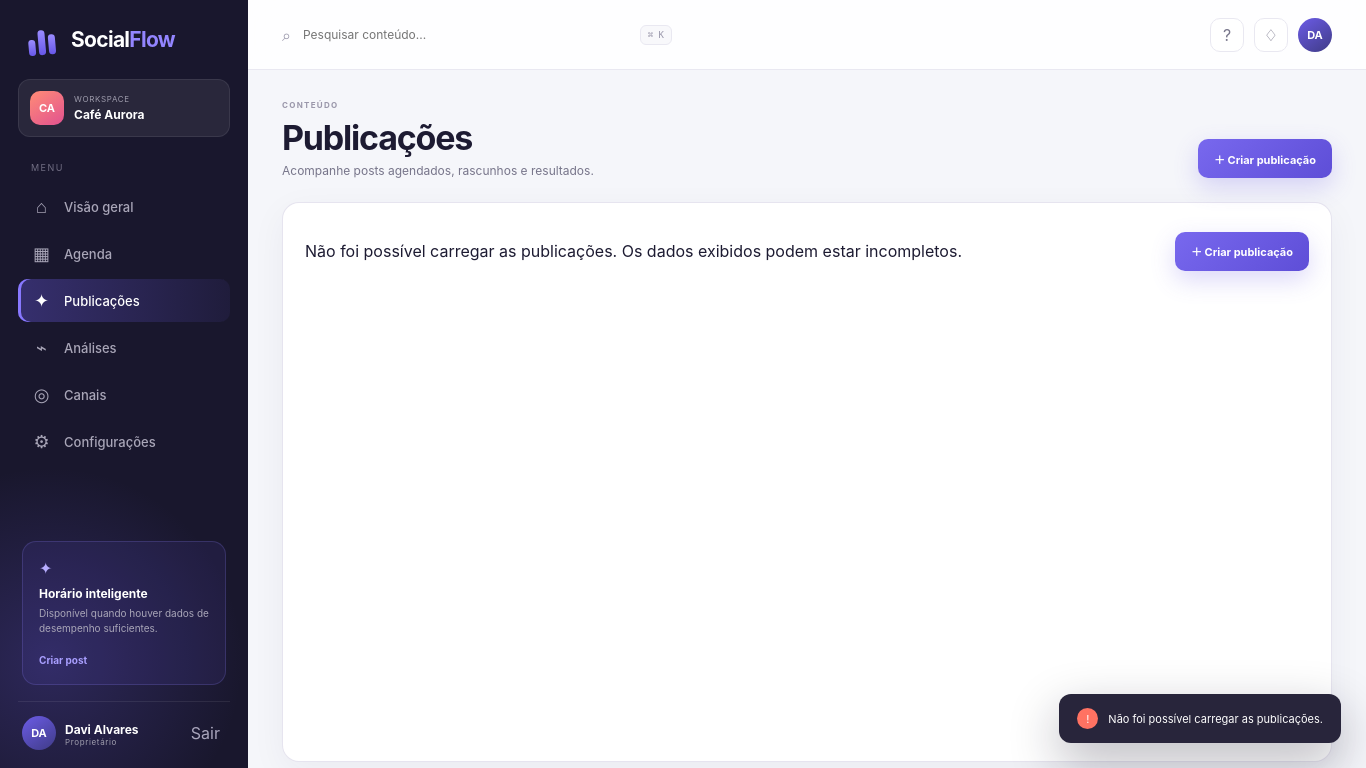
Test: SocialFlow › exibe um post criado após falha sem ocultar o aviso de dados incompletos
This screenshot has width=1366, height=768.
Click the 1st button "＋ Criar publicação": (1265, 158) [1198,139,1332,178]
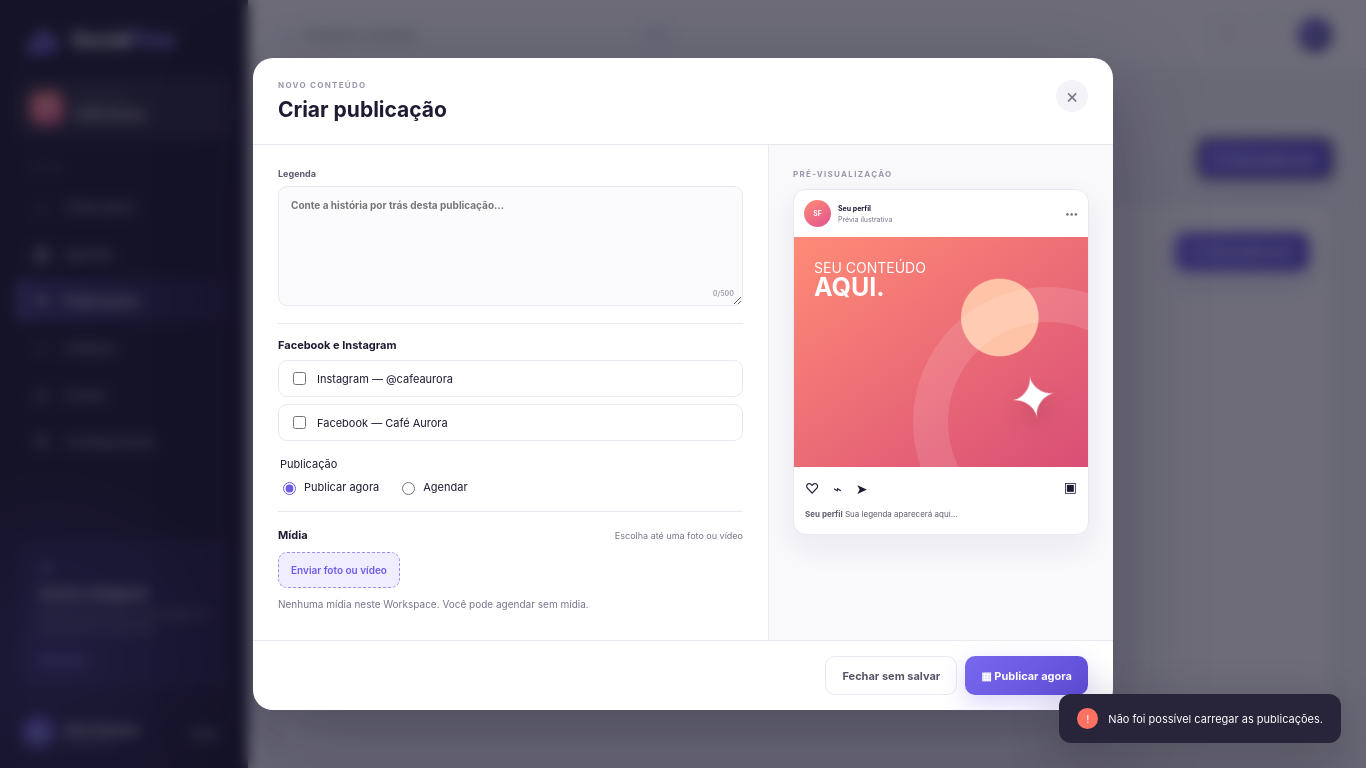
In the text box labelled "Legenda 0/500": (510, 246) [278,186,743,306], type "Post confirmado mesmo com a lista incompleta."
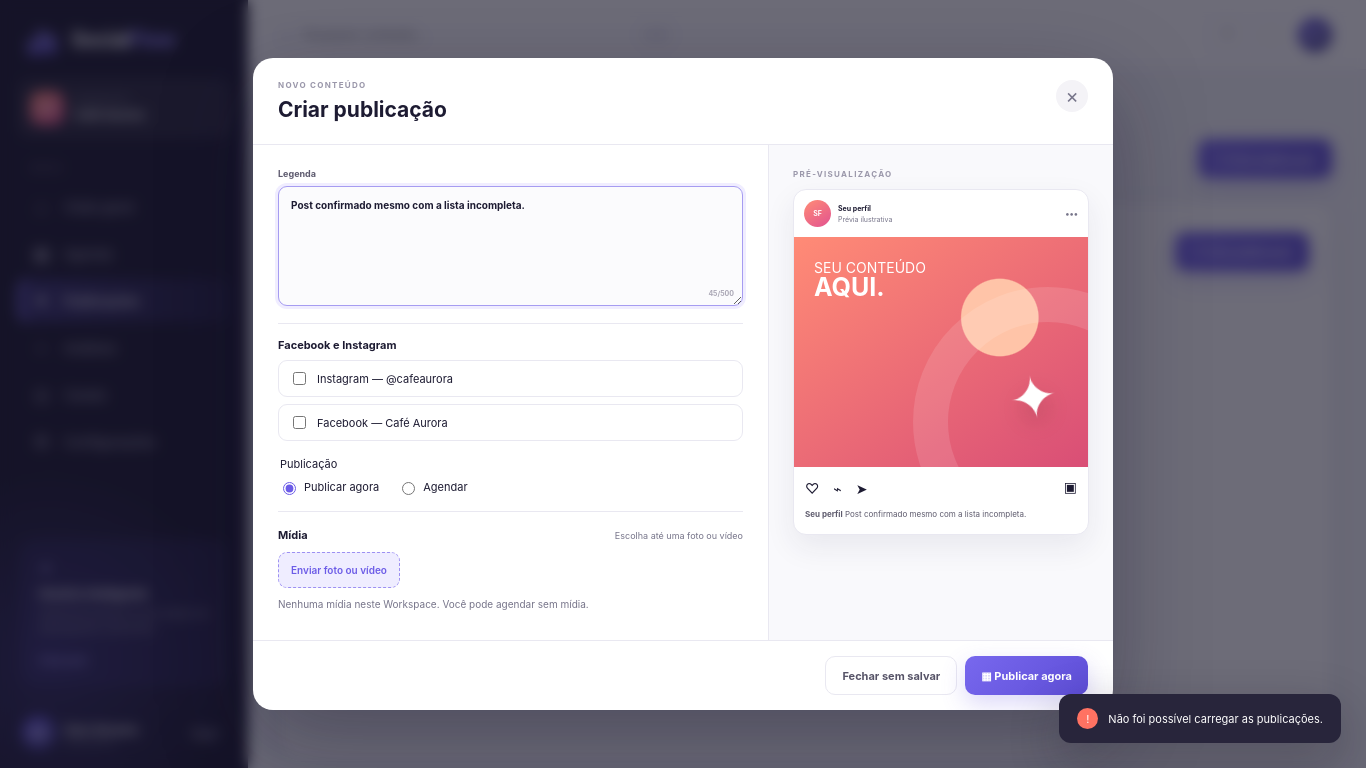
Click the checkbox labelled "Facebook — Café Aurora": (300, 422) [293,416,306,429]
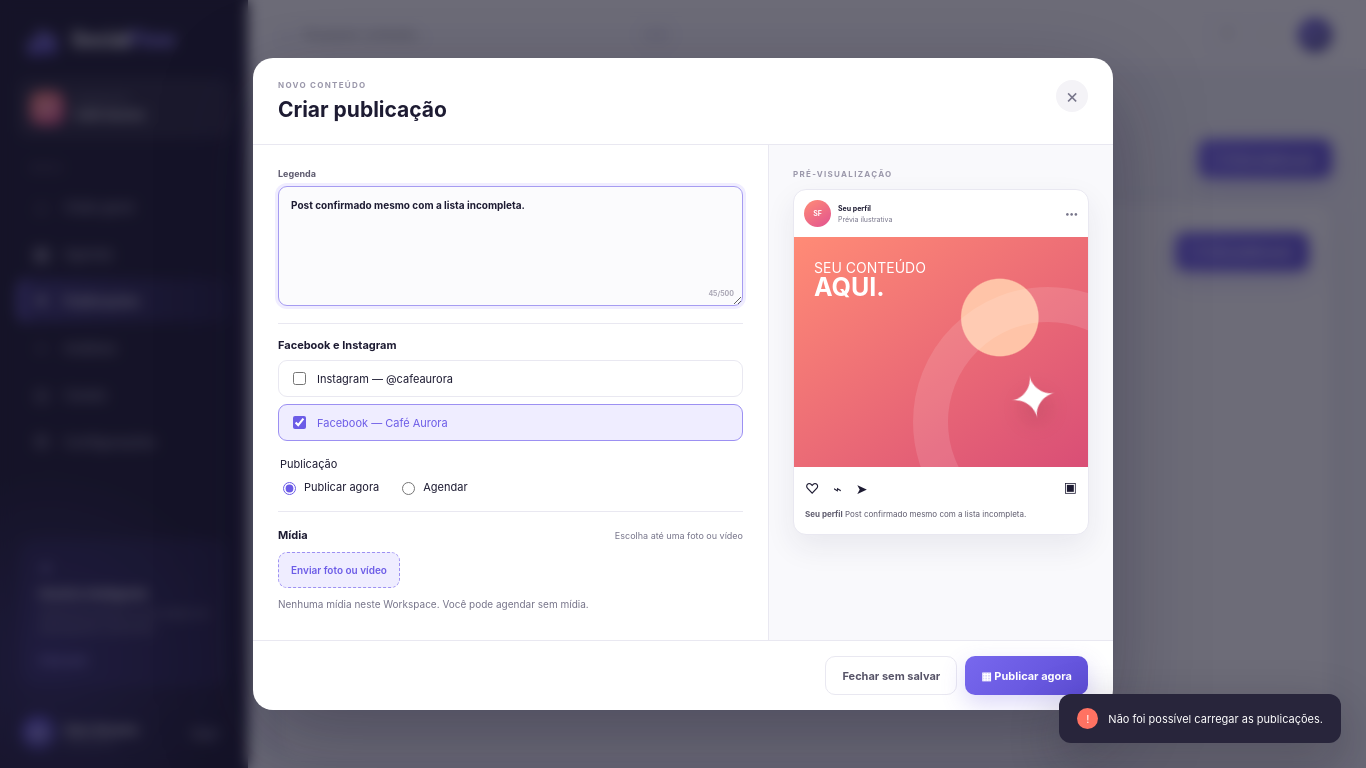
Click the radio button labelled "Agendar": (409, 488) [402,482,415,495]
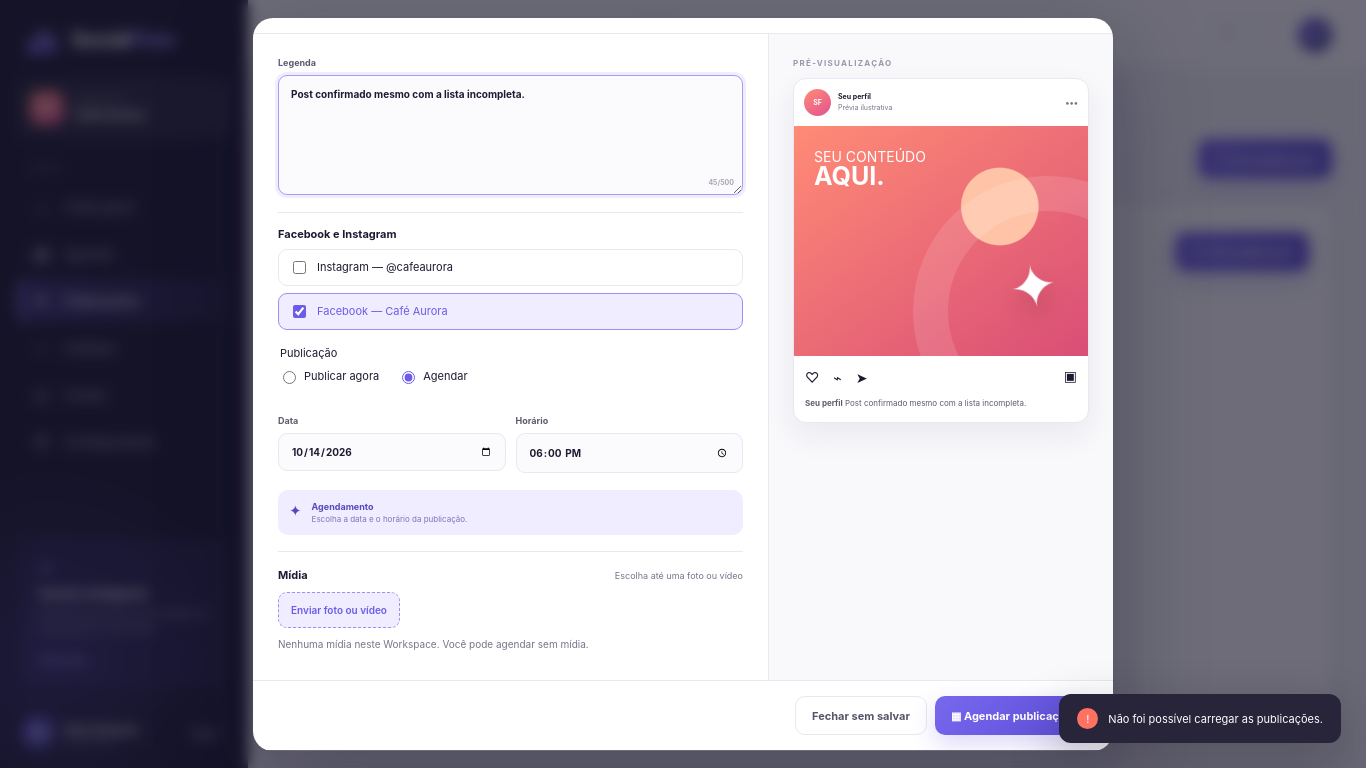
Click the button "▦ Agendar publicação": (1011, 716) [935,696,1088,735]
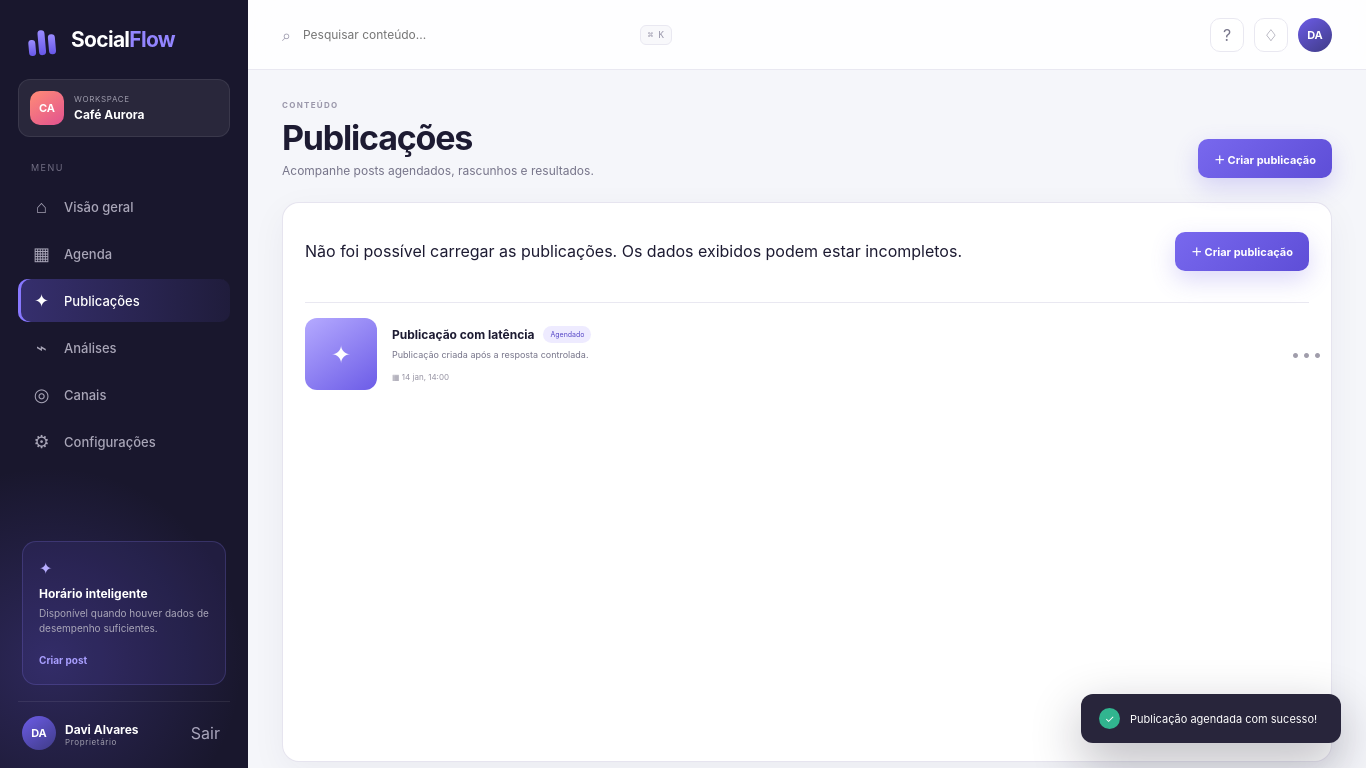
Check: the button "Todos" is not shown
Check: the text "Publicação com latência" is shown once, box [392,327,534,342]
